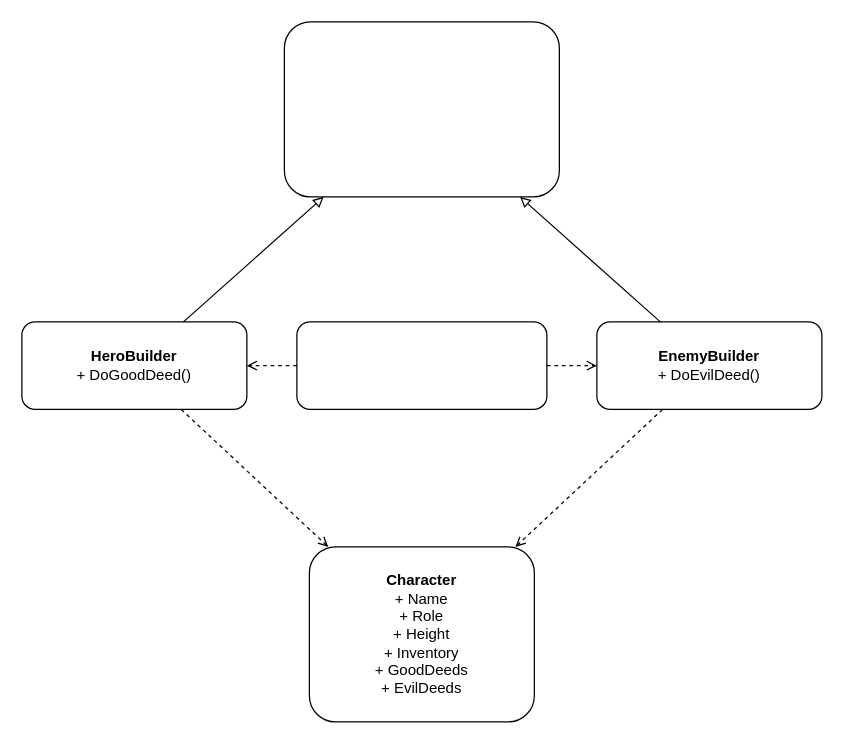
Image size: 844x744. Some labels were removed from this diagram. The box of each missing label's shape, as (x1, y1, x2, y2) in pixels:
CharacterDirector + BuildHero() + BuildEnemy(): (296, 321, 547, 409)
«interface» ITechFactory: (283, 21, 559, 197)
